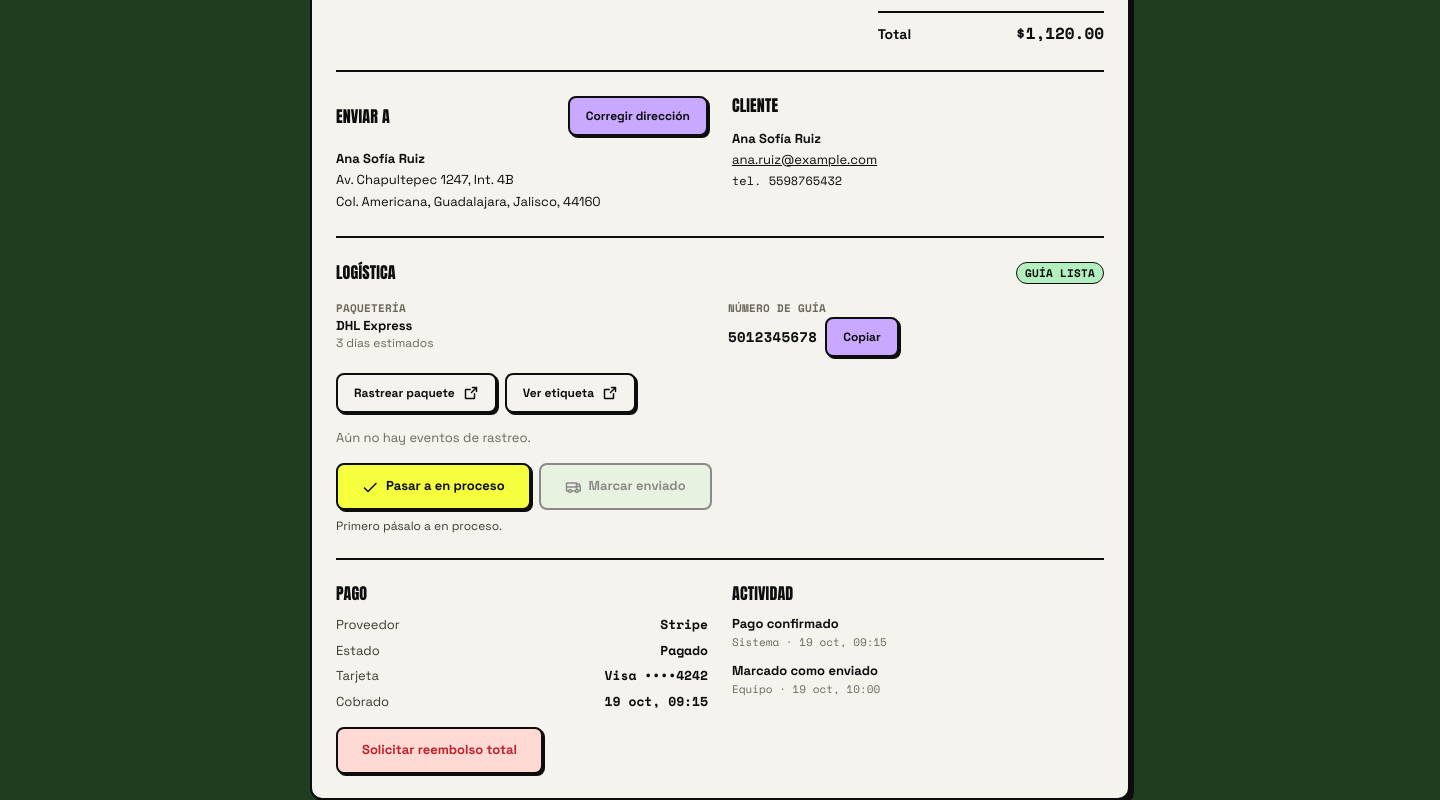
Test case: OrderDetail: acciones › pasar a en proceso actualiza el estado en pantalla sin recargar
(page scrolled)
Click the button "Pasar a en proceso" at (433, 487), box [336,463,531,510]
(page scrolled)
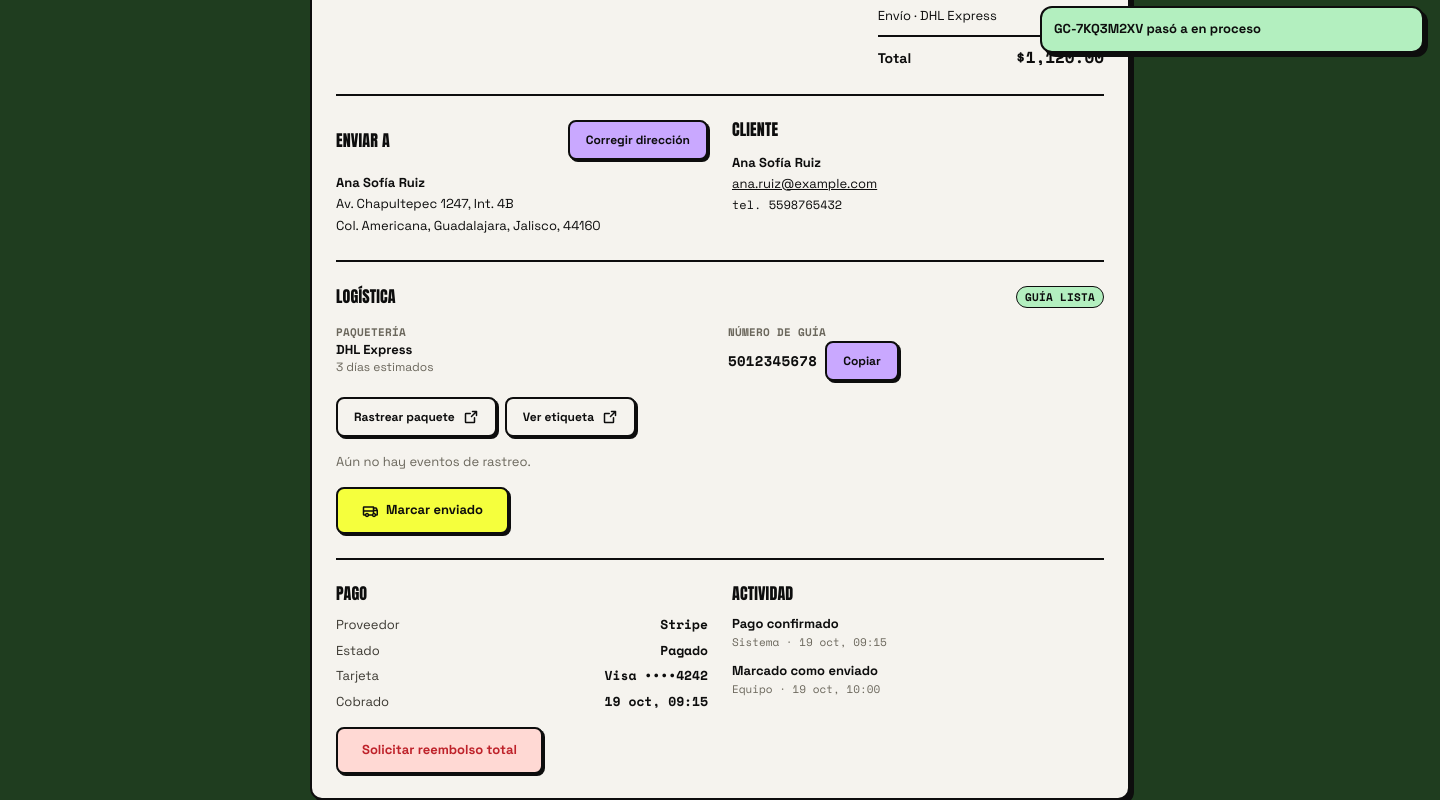
Now the button "Marcar enviado" is enabled, box [336,487,509,534]
Now the button "Pasar a en proceso" is gone
